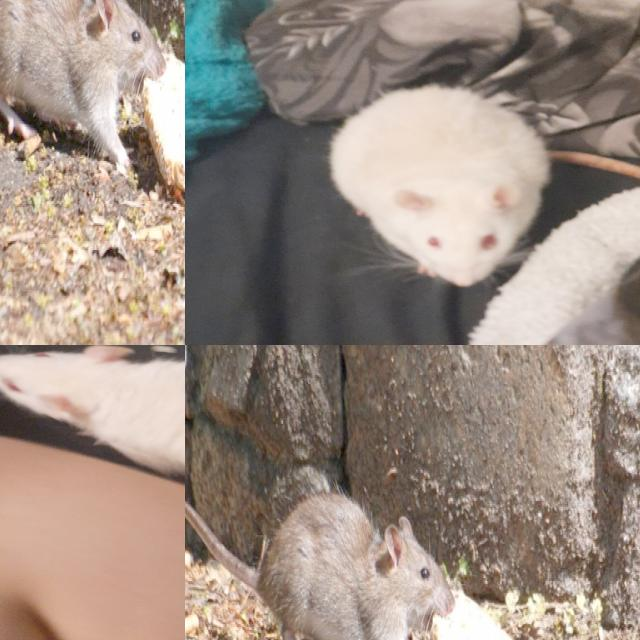rat: (324, 85, 559, 290), (0, 346, 185, 527), (0, 0, 166, 200), (257, 495, 453, 640)
